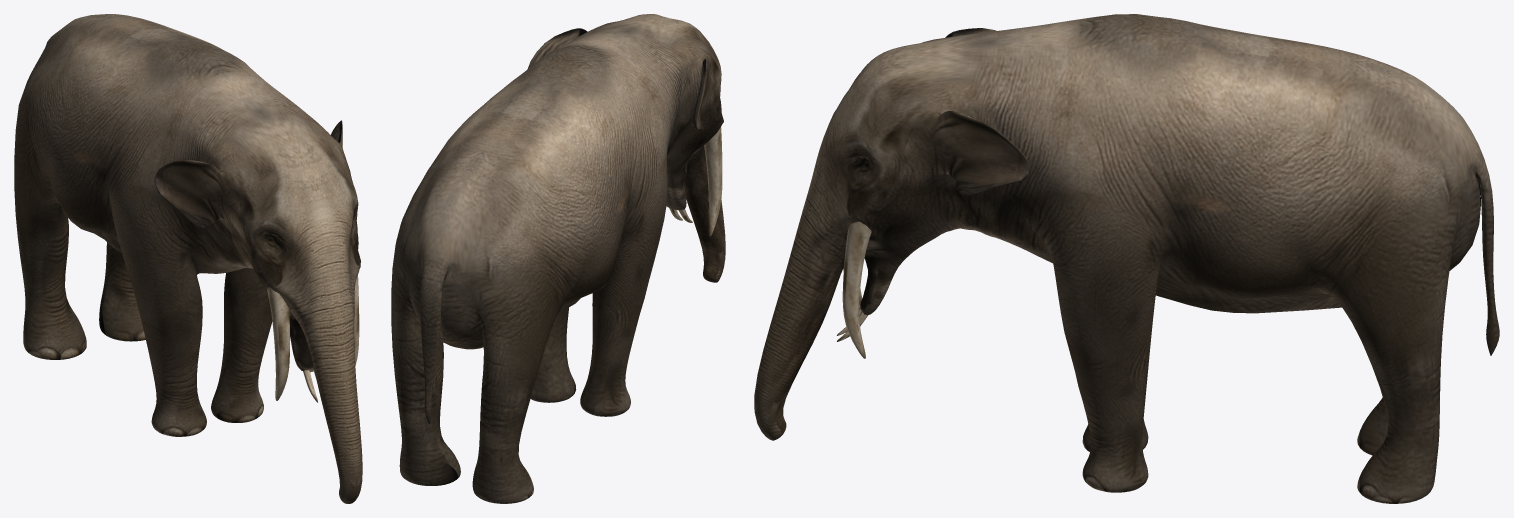
File: 04_Tetralophodon.fbx
3 renders of one model, left to right at view 1: azimuth 30°, elevation 25°; view 2: azimuth 150°, elevation 25°; view 3: azimuth 270°, elevation 25°, orthographic. The views are drawn at different scales.
Visible parts, largest first — view 1: Cube, Cube.001; view 2: Cube, Cube.001; view 3: Cube, Cube.001.
Boxes of the visible parts, box(x1,y1,x2,y2) form: Cube: box(14, 14, 362, 503); Cube.001: box(267, 275, 359, 400); Cube: box(391, 14, 725, 503); Cube.001: box(704, 127, 722, 236); Cube: box(754, 14, 1499, 503); Cube.001: box(842, 221, 871, 358).
Size of the model in its own units: 446 by 850 by 1291.
